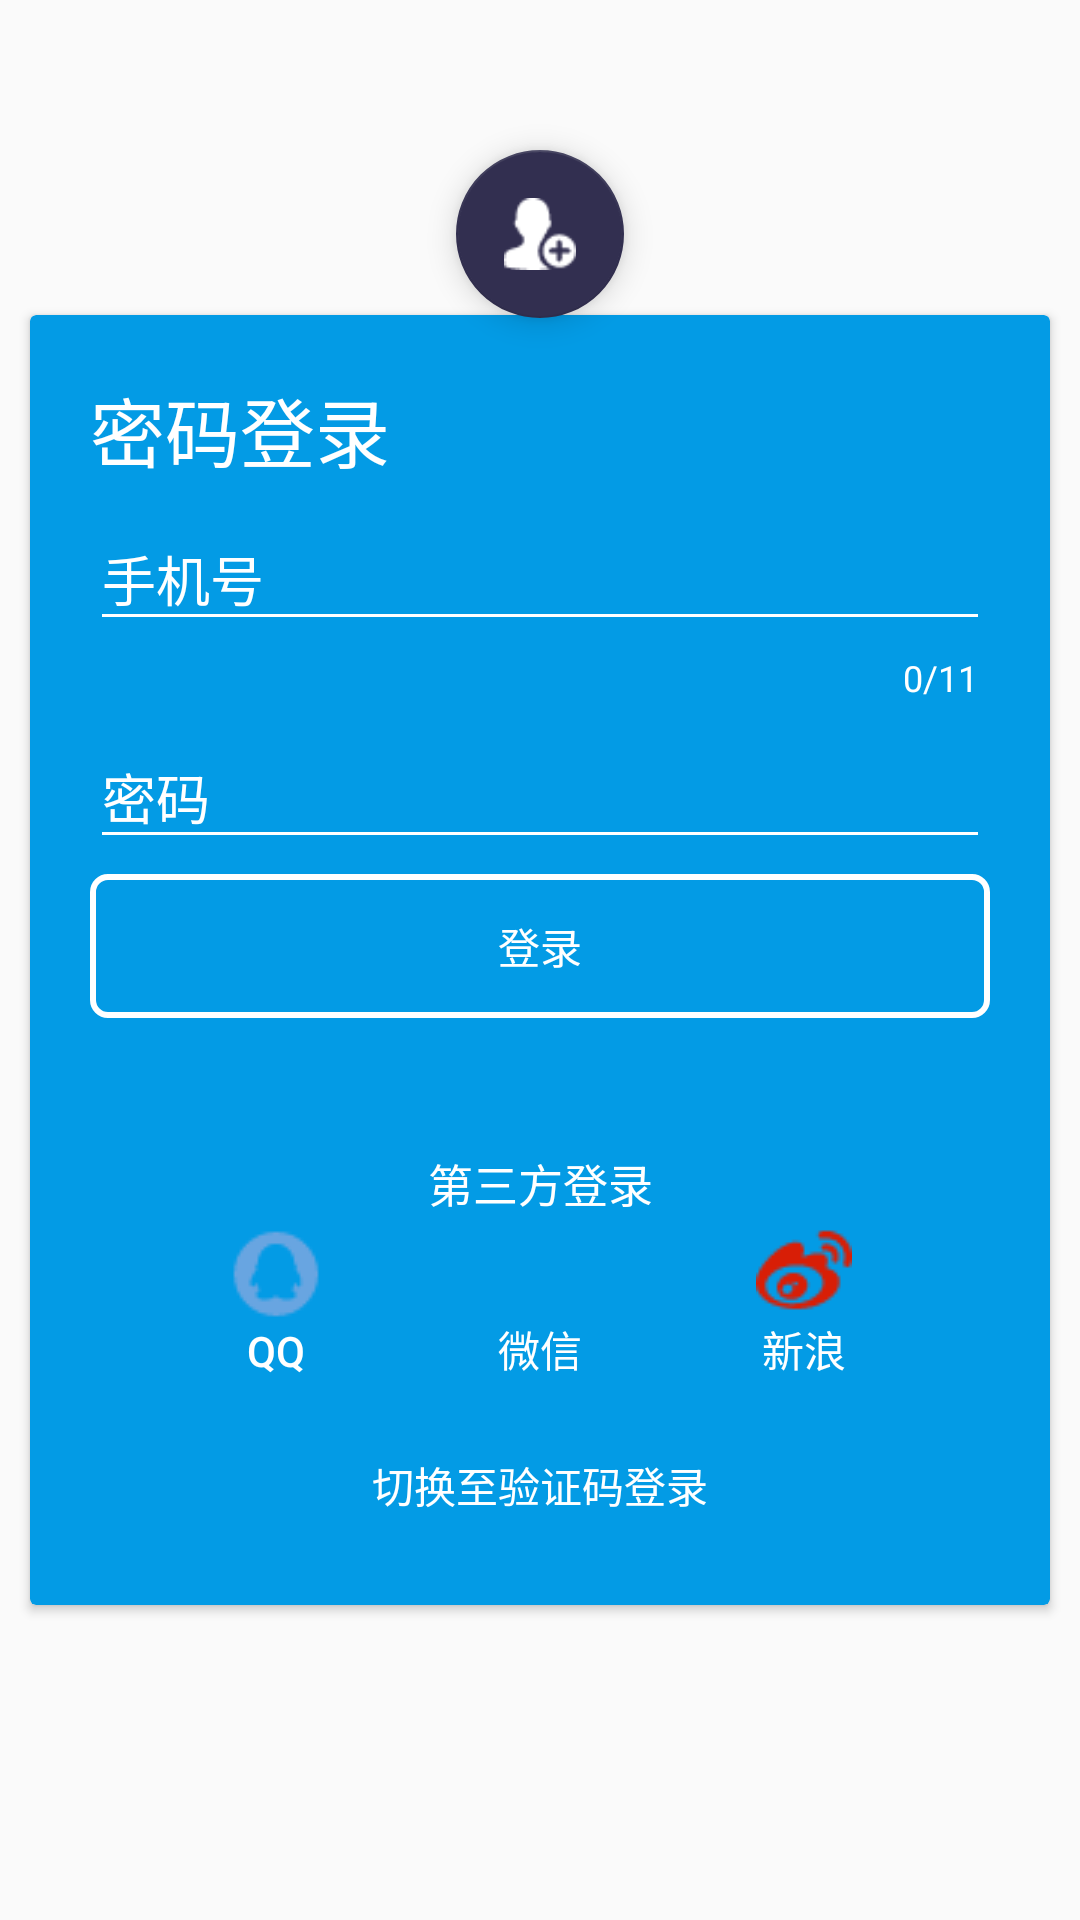

Where icons sit on this 1080 × 1920 app screen, as (x1, y1, x2, y2):
register: (456, 150, 624, 318)
